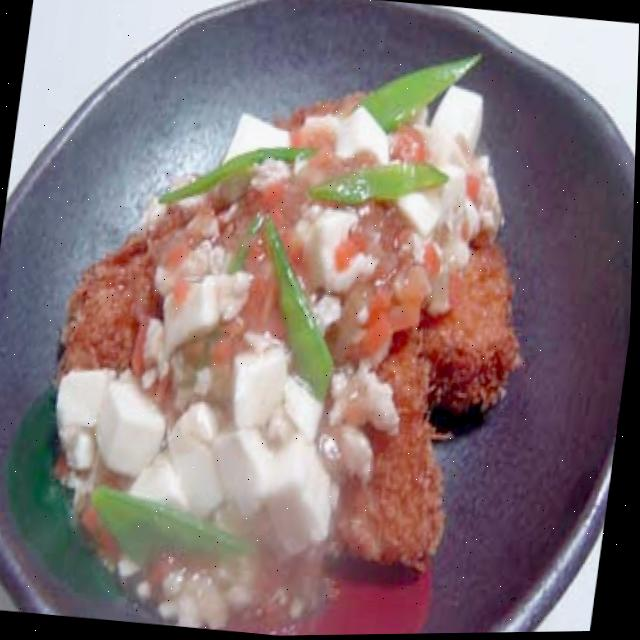炸货点心: (0, 23, 559, 640)
熟制海鲜: (0, 23, 559, 640)
